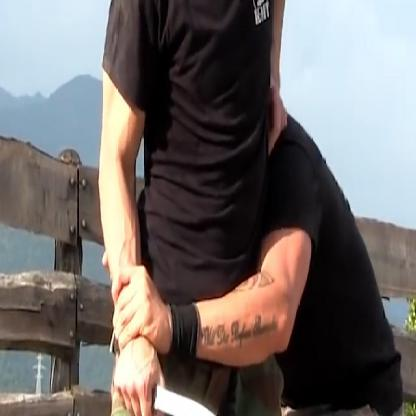knife: (105, 351, 224, 415)
